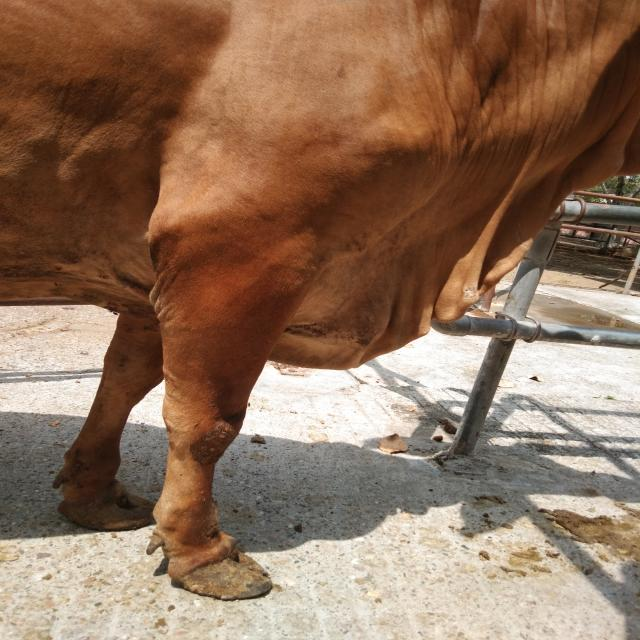Hoof: (146, 528, 273, 600), (56, 479, 156, 532)
